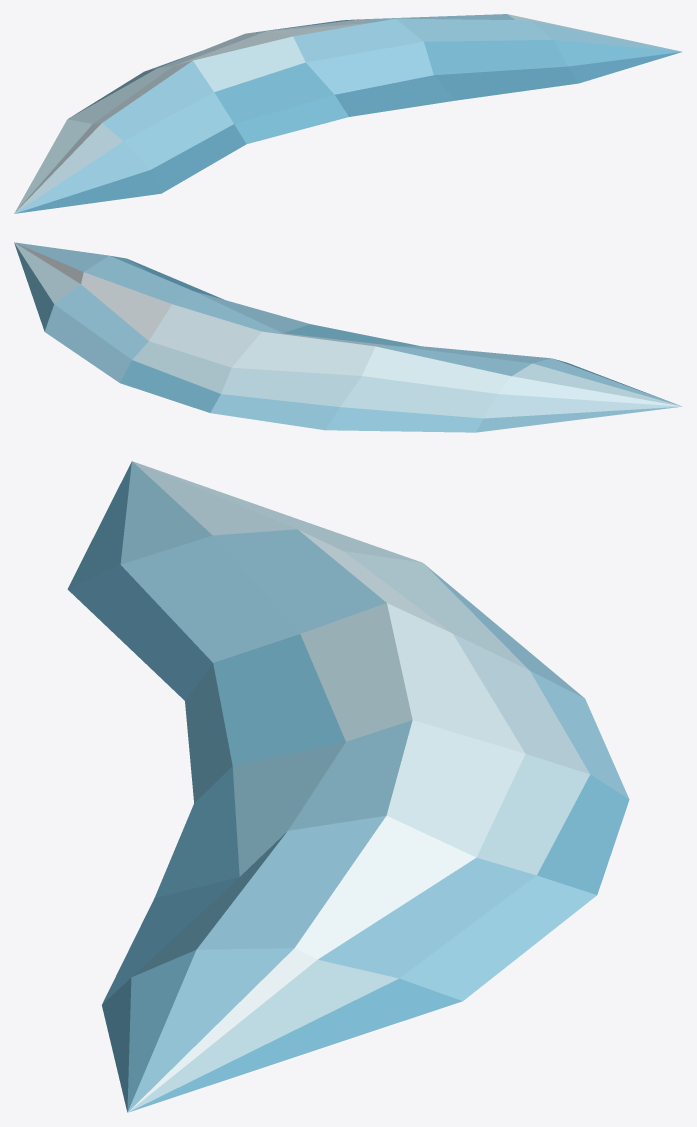
The model's file is wave_1.glb.
3 views of the same model, one above another, from view 1: azimuth 30°, elevation 25°; view 2: azimuth 150°, elevation 25°; view 3: azimuth 270°, elevation 25° (orthographic). The views are drawn at different scales.
Parts seen in each view (by area): view 1: wave_1_0; view 2: wave_1_0; view 3: wave_1_0.
Boxes of the visible parts, left/top/right/bottom form: wave_1_0: left=14, top=14, right=682, bottom=213; wave_1_0: left=14, top=242, right=682, bottom=432; wave_1_0: left=67, top=461, right=629, bottom=1112.
Size of the model in its own units: 3 by 0.2041 by 1.09.
